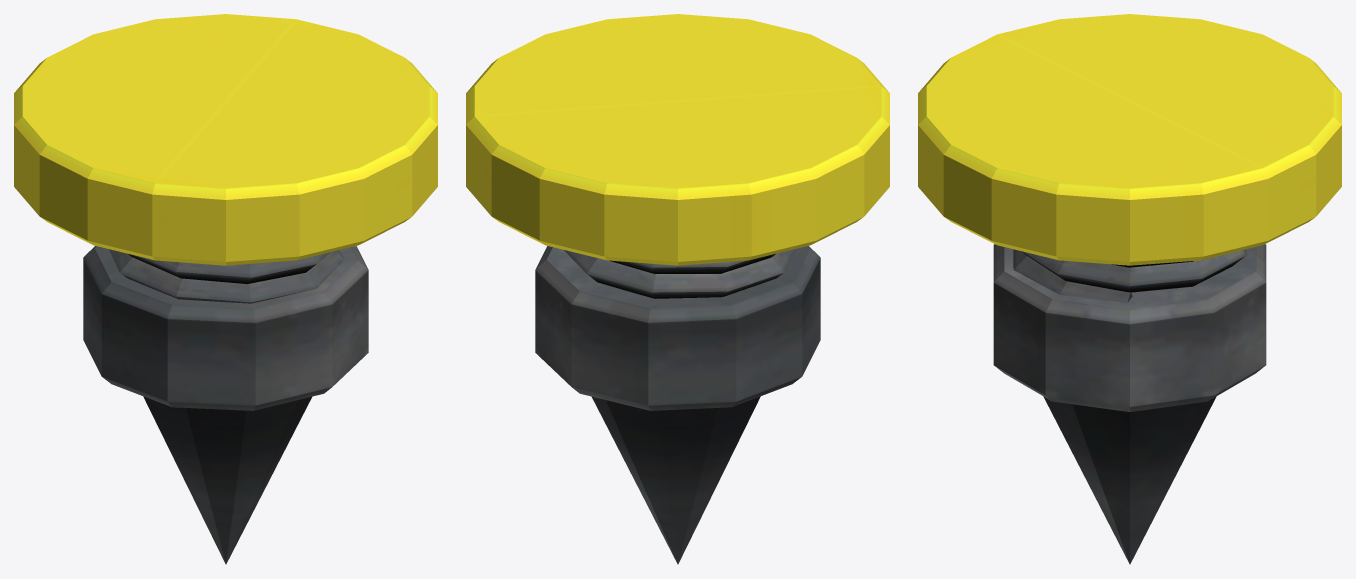
The model's file is springclassicyellow.obj.
3 views of the same model, side by side, from view 1: azimuth 30°, elevation 25°; view 2: azimuth 150°, elevation 25°; view 3: azimuth 270°, elevation 25° (orthographic).
Visible parts, largest first — view 1: rdmobj00.003; view 2: rdmobj00.003; view 3: rdmobj00.003.
Part boxes in pixels (box(x1,y1,x2,y2)): rdmobj00.003: box(14, 14, 437, 564); rdmobj00.003: box(466, 14, 889, 564); rdmobj00.003: box(918, 14, 1341, 564).
Size of the model in its own units: 36 by 42.79 by 35.45.
1 material, 1 textured.
